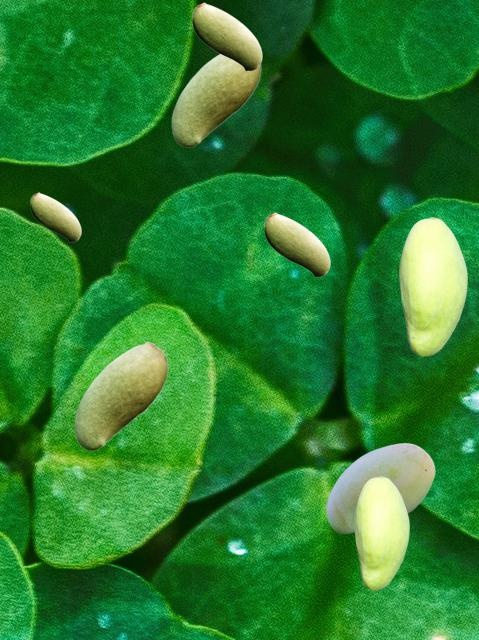green_mango: (74, 341, 167, 449), (326, 443, 434, 532), (399, 217, 466, 355), (171, 54, 260, 146), (354, 476, 408, 589), (192, 2, 261, 70), (264, 212, 329, 276), (30, 192, 80, 241)
